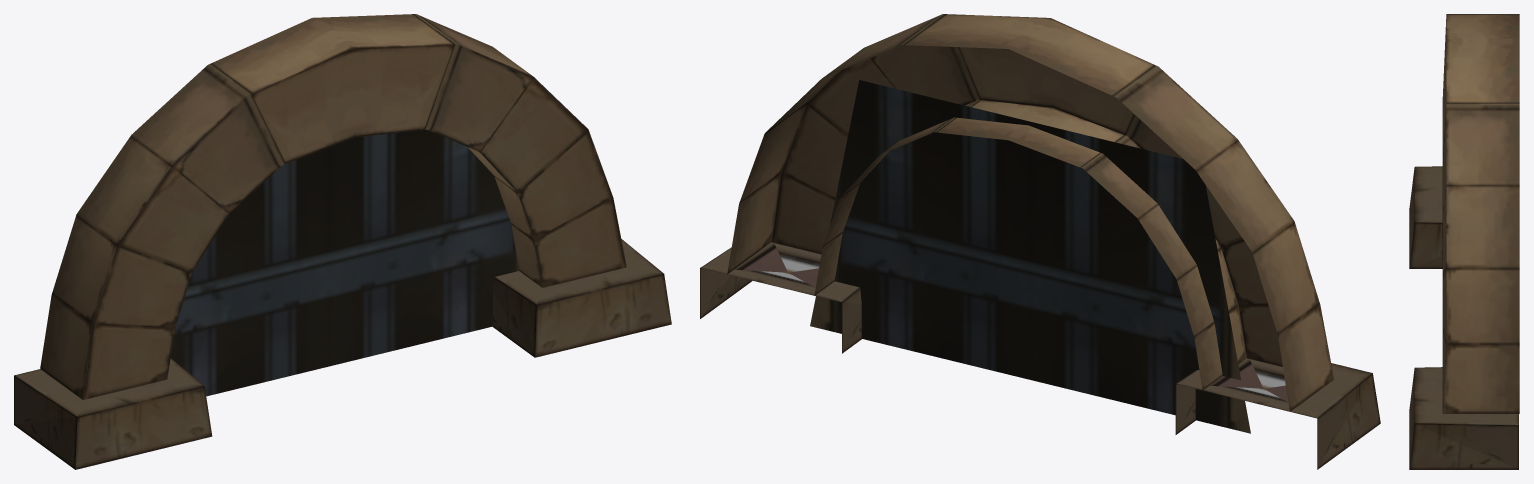
The model's file is 2_DG_QiangBiBaiJian_01.FBX.
The picture shows the model from 3 angles, left to right: view 1: azimuth 30°, elevation 25°; view 2: azimuth 150°, elevation 25°; view 3: azimuth 270°, elevation 25°; orthographic projection. The views are drawn at different scales.
Visible parts, largest first — view 1: 2_DG_QiangBiBaiJian_01; view 2: 2_DG_QiangBiBaiJian_01; view 3: 2_DG_QiangBiBaiJian_01.
Boxes of the visible parts, <box> form: 2_DG_QiangBiBaiJian_01: <box>14,14,671,469</box>; 2_DG_QiangBiBaiJian_01: <box>700,14,1380,469</box>; 2_DG_QiangBiBaiJian_01: <box>1409,14,1519,469</box>.
Size of the model in its own units: 486 by 260 by 86.82.
